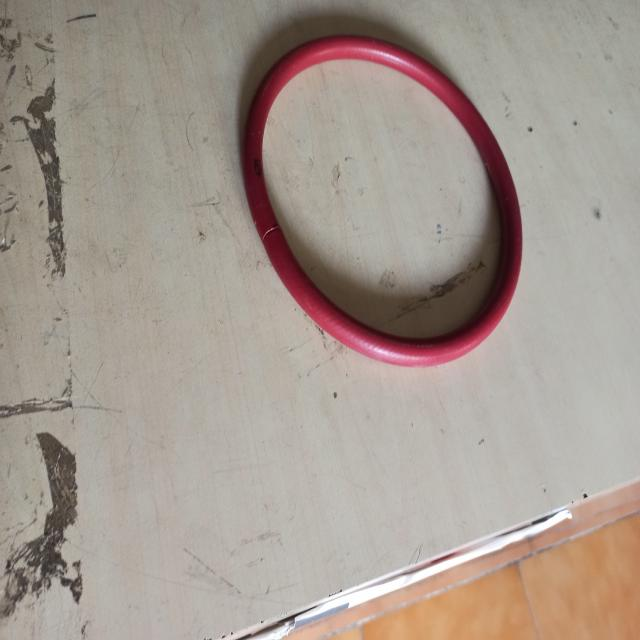daire: (253, 39, 521, 367)
